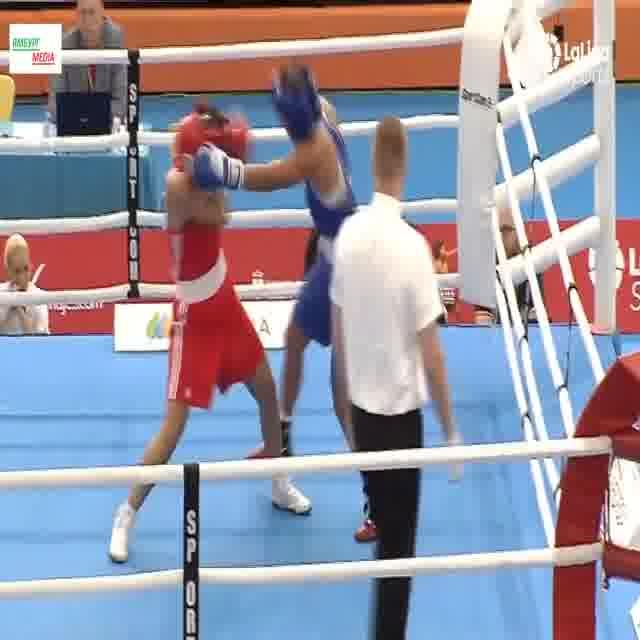blue-player: (190, 61, 398, 546)
red-player: (106, 99, 315, 569)
referee: (328, 111, 466, 640)
